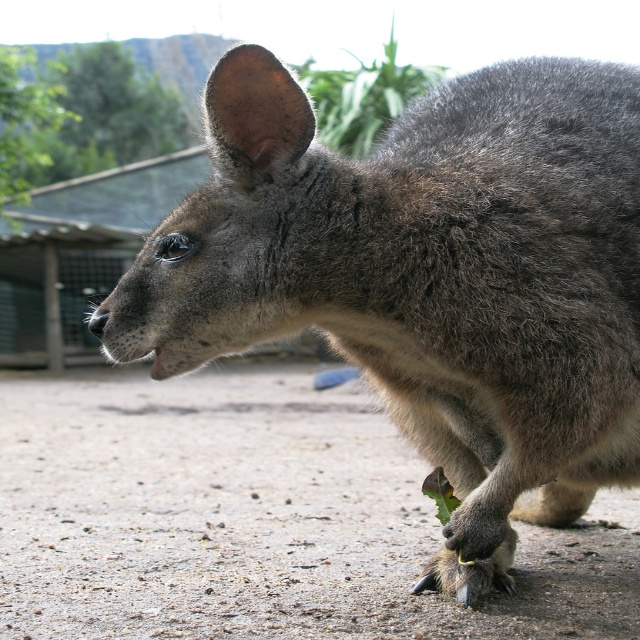Kangaroo: (84, 40, 639, 609)
